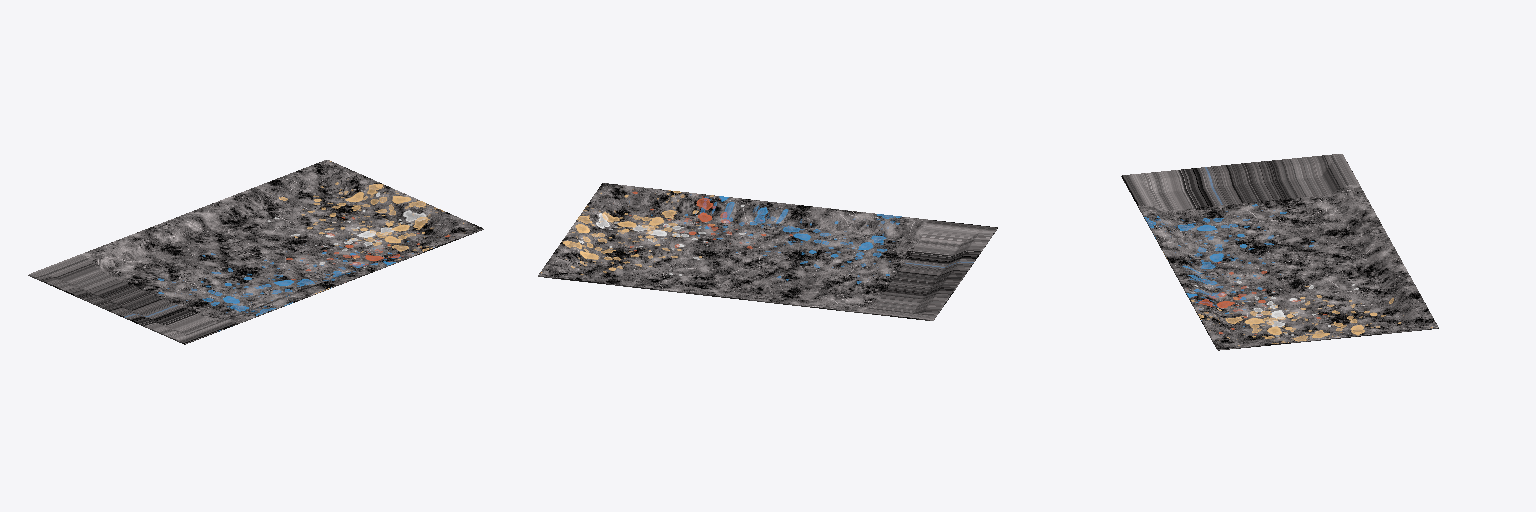
The picture shows the model from 3 angles: view 1: azimuth 30°, elevation 25°; view 2: azimuth 150°, elevation 25°; view 3: azimuth 270°, elevation 25°; orthographic projection.
Parts seen in each view (by area): view 1: Plane.012; view 2: Plane.012; view 3: Plane.012.
Part boxes in pixels (x1,y1,x2,y2): Plane.012: (28,160,483,344); Plane.012: (538,183,997,320); Plane.012: (1121,154,1438,350).
Size of the model in its own units: 0.3331 by 0.012 by 0.2331.
Materials: 1 (1 with a texture image).